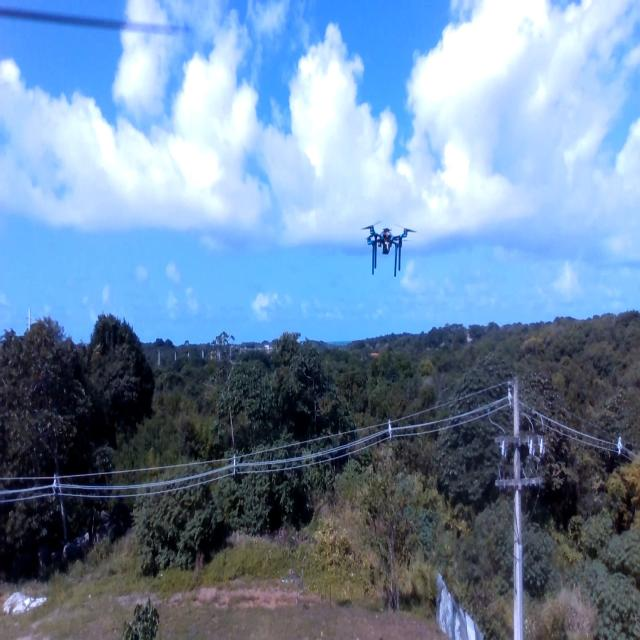-uav-: (356, 215, 418, 284)
